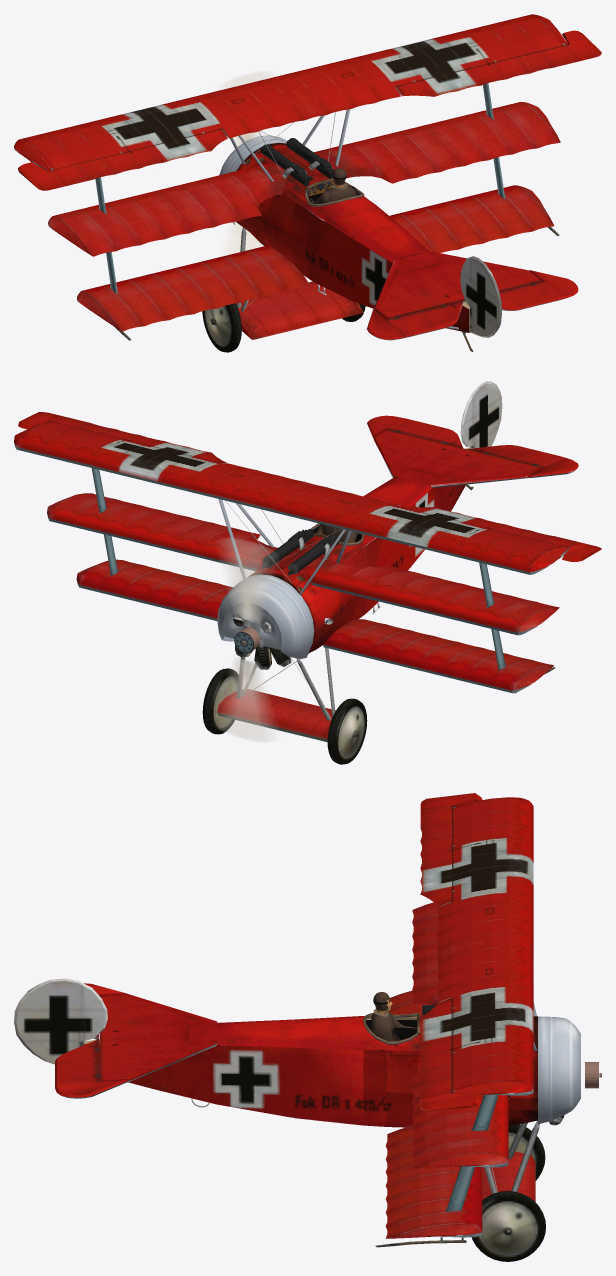
File: xac_dr1_red.glb
3 views of the same model, one above another, from view 1: azimuth 30°, elevation 25°; view 2: azimuth 150°, elevation 25°; view 3: azimuth 270°, elevation 25° (orthographic). The views are drawn at different scales.
Parts seen in each view (by area): view 1: wing1, wing2, fuse, wing3, wing4, anm_elevator, anm_aileronL, anm_aileronR, anm_rudder, wings_struts, wheels, guns (+3 smaller); view 2: wing1, wing2, fuse, wing3, propeller, fuse_cowl, wheels, wing4, wings_struts, anm_elevator, anm_rudder, anm_aileronL (+3 smaller); view 3: fuse, wing1, wing2, wing3, anm_rudder, wheels, fuse_cowl, anm_aileronR, anm_aileronL, anm_elevator, wings_struts, wing4 (+1 smaller).
Boxes of the visible parts, <box> form: wing1: <box>14,14,568,171</box>; wing2: <box>48,102,560,256</box>; fuse: <box>233,143,541,332</box>; wing3: <box>77,185,553,331</box>; wing4: <box>236,281,363,339</box>; anm_elevator: <box>366,270,578,340</box>; anm_aileronL: <box>18,129,227,190</box>; anm_aileronR: <box>396,30,601,96</box>; anm_rudder: <box>460,256,501,337</box>; wings_struts: <box>95,83,505,311</box>; wheels: <box>202,303,365,352</box>; guns: <box>260,138,334,185</box>; wing1: <box>14,421,568,574</box>; wing2: <box>47,493,559,635</box>; fuse: <box>234,430,540,652</box>; wing3: <box>76,559,553,693</box>; propeller: <box>218,538,274,742</box>; fuse_cowl: <box>217,574,314,658</box>; wheels: <box>202,668,367,764</box>; wing4: <box>216,689,335,742</box>; wings_struts: <box>91,468,505,720</box>; anm_elevator: <box>367,415,578,477</box>; anm_rudder: <box>460,381,502,448</box>; anm_aileronL: <box>397,505,601,561</box>; fuse: <box>84,994,543,1127</box>; wing1: <box>437,797,533,1095</box>; wing2: <box>412,902,508,1168</box>; wing3: <box>385,990,482,1238</box>; anm_rudder: <box>14,978,107,1064</box>; wheels: <box>471,1124,545,1261</box>; fuse_cowl: <box>538,1016,580,1124</box>; anm_aileronR: <box>420,998,481,1110</box>; anm_aileronL: <box>420,793,482,906</box>; anm_elevator: <box>55,983,129,1098</box>; wings_struts: <box>445,1003,539,1211</box>; wing4: <box>482,1151,535,1201</box>.
Bounding box in the file's own units: 26.12 × 11.25 × 20.83.
Materials: 24 (11 with a texture image).
